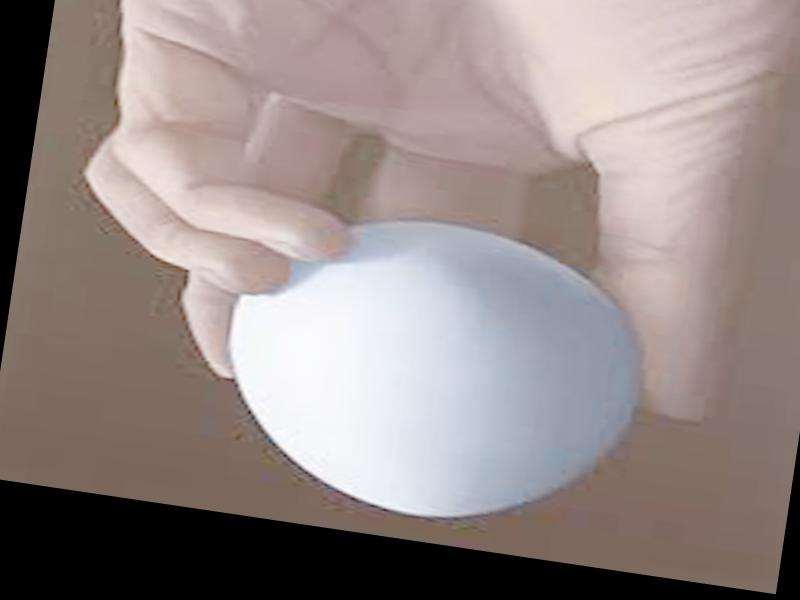Eggs: (203, 198, 654, 546)
